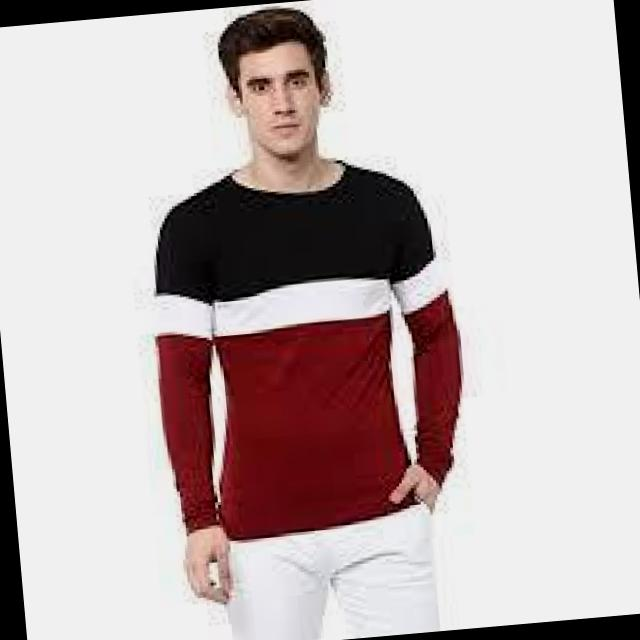Tshirt: (138, 146, 478, 539)
